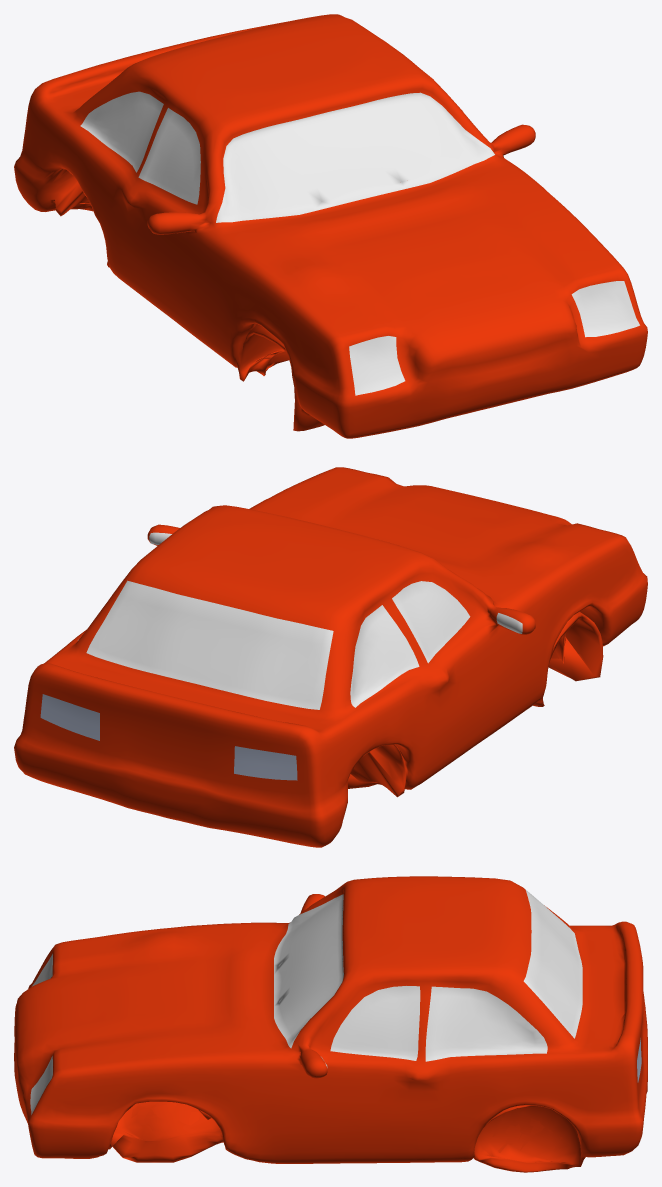
Rendered from car.fbx.
The picture shows the model from 3 angles, top to bottom: view 1: azimuth 30°, elevation 25°; view 2: azimuth 150°, elevation 25°; view 3: azimuth 270°, elevation 25°; orthographic projection. The views are drawn at different scales.
Parts seen in each view (by area): view 1: model; view 2: model; view 3: model.
Boxes of the visible parts, x1,y1,x2,y2 form: model: [14, 14, 647, 438]; model: [14, 467, 647, 847]; model: [14, 876, 647, 1172].
Bounding box in the file's own units: 122 × 65.39 × 188.
